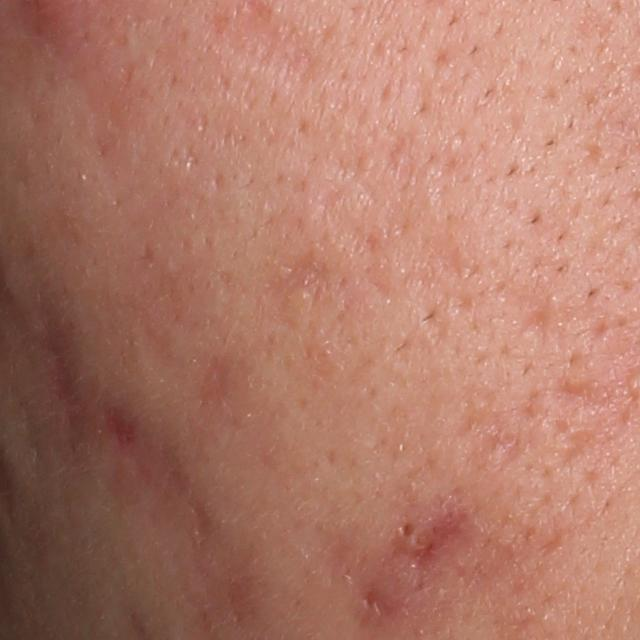atrophic_scar: (98, 413, 235, 598), (264, 249, 333, 305), (543, 411, 593, 464), (519, 287, 553, 343), (360, 582, 393, 617)
comedo: (394, 518, 422, 544)
